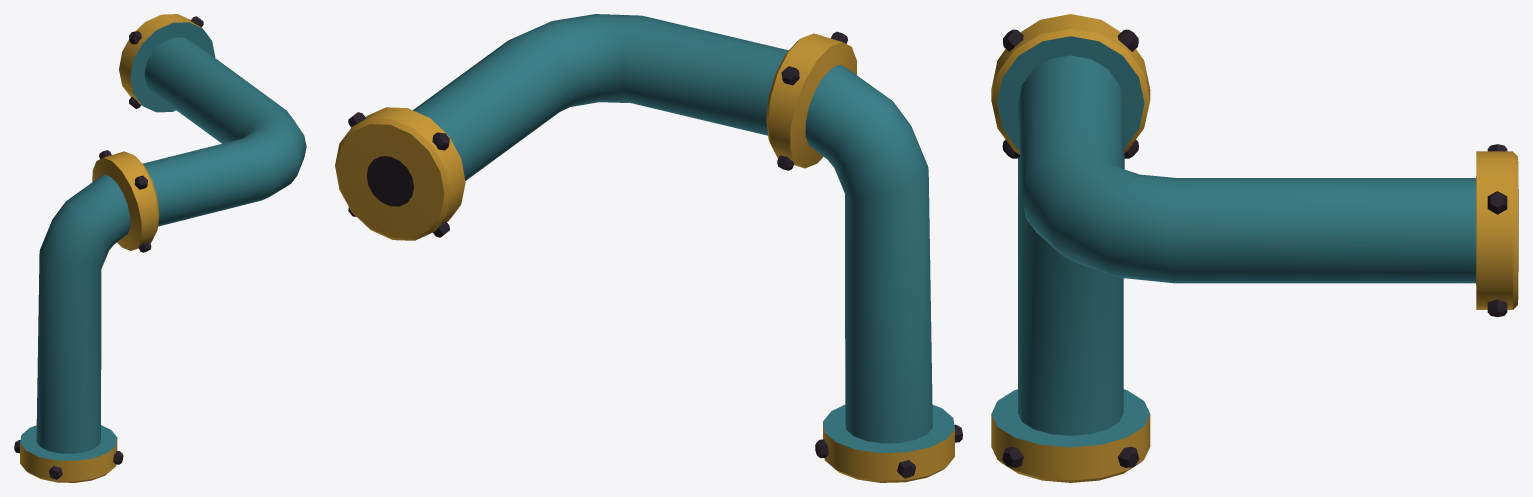
File: PipeRun_29.glb
3 renders of one model, left to right at view 1: azimuth 30°, elevation 25°; view 2: azimuth 150°, elevation 25°; view 3: azimuth 270°, elevation 25°, orthographic. The views are drawn at different scales.
Visible parts, largest first — view 1: PipeRun_29; view 2: PipeRun_29; view 3: PipeRun_29.
Part boxes in pixels (x1,y1,x2,y2): PipeRun_29: (14,14,306,482); PipeRun_29: (335,14,962,482); PipeRun_29: (991,14,1518,482).
Bounding box in the file's own units: 4.18 × 3.72 × 3.75.
